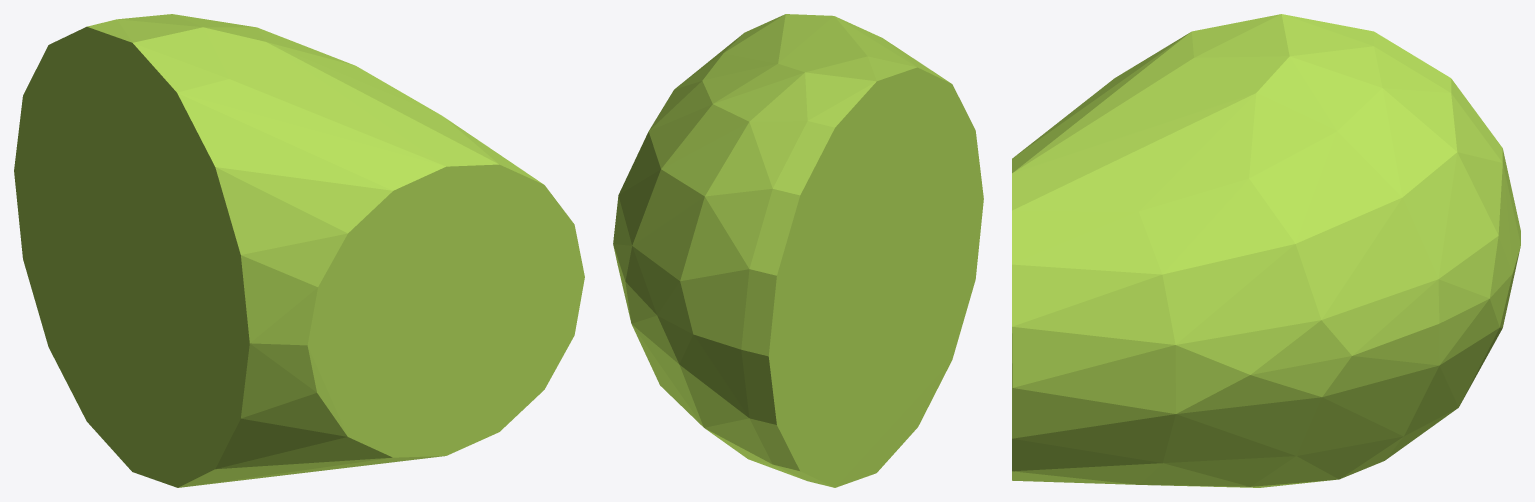
Rendered from industrial_06397_link_3_respondable_respondable_respondable_respondable_respondable_respondable_coll_2.dae.
The picture shows the model from 3 angles, left to right: view 1: azimuth 30°, elevation 25°; view 2: azimuth 150°, elevation 25°; view 3: azimuth 270°, elevation 25°; orthographic projection. The views are drawn at different scales.
Visible parts, largest first — view 1: node; view 2: node; view 3: node.
Boxes of the visible parts, x1,y1,x2,y2 form: node: [14, 14, 584, 487]; node: [613, 14, 983, 487]; node: [1012, 14, 1520, 487].
Bounding box in the file's own units: 0.0907 × 0.1165 × 0.124.
